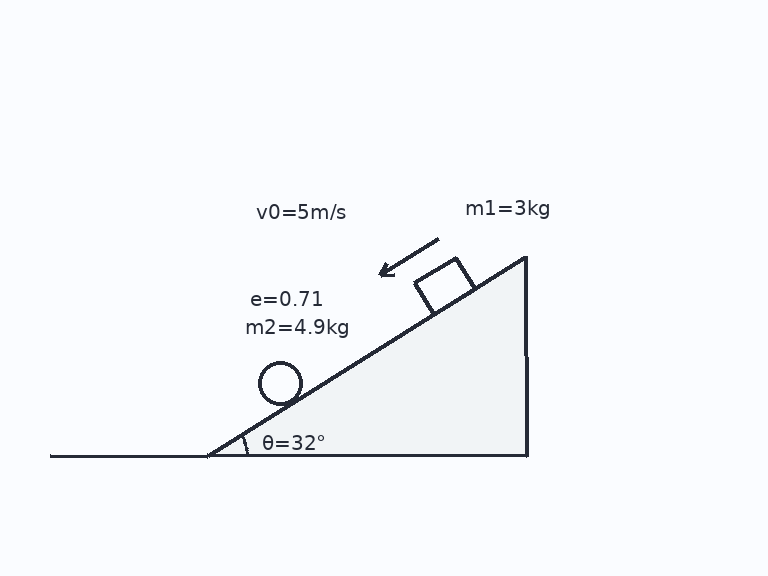ball: (256, 359, 304, 407)
block: (412, 256, 476, 316)
ramp: (205, 255, 526, 457)
